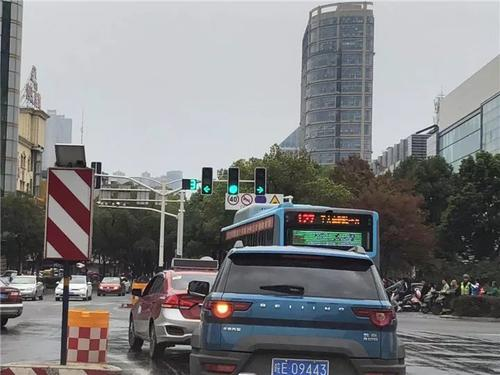green: (253, 165, 268, 198), (199, 166, 214, 195), (228, 167, 240, 197)
